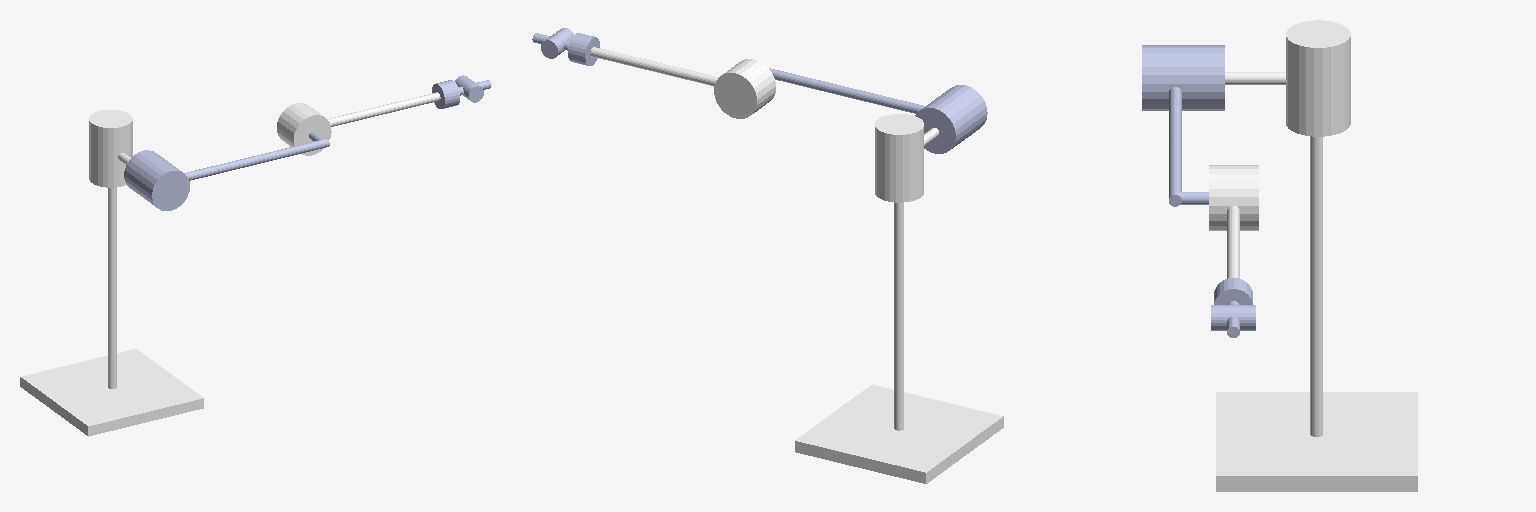
The robot description file, URDF, robot "puma560":
<?xml version="1.0" encoding="utf-8"?>
<!-- This URDF was automatically created by SolidWorks to URDF Exporter! Originally created by [author] ([email redacted]) 
     Commit Version: 1.5.1-0-g916b5db  Build Version: 1.5.7152.31018
     For more information, please see http://wiki.ros.org/sw_urdf_exporter -->
<robot
  name="puma560">
  <!-- Dummy link declaration -->
  <link name="world" />
  <joint name="joint_world" type="fixed">
    <parent link="world"/>
    <child link="base_link"/>
  </joint>  


  <!-- Robot declaration -->
  <link
    name="base_link">
    <inertial>
      <origin
        xyz="-9.5399E-11 0.021962 0.19252"
        rpy="0 0 0" />
      <mass
        value="15.787" />
      <inertia
        ixx="0.55024"
        ixy="-2.863E-11"
        ixz="-1.6743E-10"
        iyy="0.50424"
        iyz="0.022162"
        izz="0.16071" />
    </inertial>
    <visual>
      <origin
        xyz="0 0 0"
        rpy="0 0 0" />
      <geometry>
        <mesh
          filename="package://puma560_robot/meshes/visual/base_link_k.STL" />
      </geometry>
      <material
        name="white">
        <color
          rgba="1 1 1 1" />
      </material>
    </visual>
    <collision>
      <origin
        xyz="0 0 0"
        rpy="0 0 0" />
      <geometry>
        <mesh
          filename="package://puma560_robot/meshes/collision/base_link_c.STL" />
      </geometry>
    </collision>
  </link>
  <link
    name="waist_link">
    <inertial>
      <origin
        xyz="0.022505 1.5634E-07 -0.0027897"
        rpy="0 0 0" />
      <mass
        value="4.4341" />
      <inertia
        ixx="0.013316"
        ixy="1.005E-08"
        ixz="-0.00027854"
        iyy="0.027328"
        iyz="-7.7933E-09"
        izz="0.027164" />
    </inertial>
    <visual>
      <origin
        xyz="0 0 0"
        rpy="0 0 0" />
      <geometry>
        <mesh
          filename="package://puma560_robot/meshes/visual/waist_link_k.STL" />
      </geometry>
      <material
        name="white">
        <color
          rgba="1 1 1 1" />
      </material>
    </visual>
    <collision>
      <origin
        xyz="0 0 0"
        rpy="0 0 0" />
      <geometry>
        <mesh
          filename="package://puma560_robot/meshes/collision/waist_link_c.STL" />
      </geometry>
    </collision>
  </link>
  <joint
    name="joint_base_to_waist"
    type="revolute">
    <origin
      xyz="0 0 0.62357"
      rpy="0 0 -1.5708" />
    <parent
      link="base_link" />
    <child
      link="waist_link" />
    <axis
      xyz="0 0 1" />
    <limit
      lower="-2.7925"
      upper="2.7925"
      effort="0"
      velocity="0" />
  </joint>
  <link
    name="shoulder">
    <inertial>
      <origin
        xyz="0.082737 -4.6775E-05 -0.0031596"
        rpy="0 0 0" />
      <mass
        value="16.847" />
      <inertia
        ixx="0.09723"
        ixy="-7.8859E-06"
        ixz="-0.0043475"
        iyy="0.59657"
        iyz="-4.8383E-05"
        izz="0.65976" />
    </inertial>
    <visual>
      <origin
        xyz="0 0 0"
        rpy="0 0 0" />
      <geometry>
        <mesh
          filename="package://puma560_robot/meshes/visual/shoulder_link_k.STL" />
      </geometry>
      <material
        name="ecolor">
        <color
          rgba="0.79216 0.81961 0.93333 1" />
      </material>
    </visual>
    <collision>
      <origin
        xyz="0 0 0"
        rpy="0 0 0" />
      <geometry>
        <mesh
          filename="package://puma560_robot/meshes/collision/shoulder_link_c.STL" />
      </geometry>
    </collision>
  </link>
  <joint
    name="joint_waist_to_shoulder"
    type="revolute">
    <origin
      xyz="0.21844 0 0"
      rpy="1.5708 0 1.5708" />
    <parent
      link="waist_link" />
    <child
      link="shoulder" />
    <axis
      xyz="0 0 1" />
    <limit
      lower="-1.9199"
      upper="1.9199"
      effort="0"
      velocity="0" />
  </joint>
  <link
    name="elbow_link">
    <inertial>
      <origin
        xyz="0.088774 1.1788E-06 1.5623E-06"
        rpy="0 0 0" />
      <mass
        value="4.6025" />
      <inertia
        ixx="0.0091916"
        ixy="-4.837E-07"
        ixz="2.2739E-06"
        iyy="0.082615"
        iyz="-3.6529E-07"
        izz="0.087355" />
    </inertial>
    <visual>
      <origin
        xyz="0 0 0"
        rpy="0 0 0" />
      <geometry>
        <mesh
          filename="package://puma560_robot/meshes/visual/elbow_link_k.STL" />
      </geometry>
      <material
        name="white">
        <color
          rgba="1 1 1 1" />
      </material>
    </visual>
    <collision>
      <origin
        xyz="0 0 0"
        rpy="0 0 0" />
      <geometry>
        <mesh
          filename="package://puma560_robot/meshes/collision/elbow_link_c.STL" />
      </geometry>
    </collision>
  </link>
  <joint
    name="joint_shoulder_to_elbow"
    type="revolute">
    <origin
      xyz="0.4318 0 -0.0889"
      rpy="0 0 0" />
    <parent
      link="shoulder" />
    <child
      link="elbow_link" />
    <axis
      xyz="0 0 -1" />
    <limit
      lower="-2.3562"
      upper="2.3562"
      effort="0"
      velocity="0" />
  </joint>
  <link
    name="wrist_bend_link">
    <inertial>
      <origin
        xyz="0 0 0.02757"
        rpy="0 0 0" />
      <mass
        value="0.47079" />
      <inertia
        ixx="0.00073772"
        ixy="4.6144E-21"
        ixz="3.7347E-20"
        iyy="0.00077289"
        iyz="1.5125E-19"
        izz="0.00046683" />
    </inertial>
    <visual>
      <origin
        xyz="0 0 0"
        rpy="0 0 0" />
      <geometry>
        <mesh
          filename="package://puma560_robot/meshes/visual/wrist_bend_link_k.STL" />
      </geometry>
      <material
        name="scolor">
        <color
          rgba="0.79216 0.81961 0.93333 1" />
      </material>
    </visual>
    <collision>
      <origin
        xyz="0 0 0"
        rpy="0 0 0" />
      <geometry>
        <mesh
          filename="package://puma560_robot/meshes/collision/wrist_bend_link_c.STL" />
      </geometry>
    </collision>
  </link>
  <joint
    name="joint_elbow_to_wrist_bend"
    type="revolute">
    <origin
      xyz="0.37211 0 0"
      rpy="0 1.5708 0" />
    <parent
      link="elbow_link" />
    <child
      link="wrist_bend_link" />
    <axis
      xyz="0 0 1" />
    <limit
      lower="-1.7453"
      upper="1.7453"
      effort="0"
      velocity="0" />
  </joint>
  <link
    name="wrist_roll_link">
    <inertial>
      <origin
        xyz="3.9262E-10 -0.010974 2.7756E-17"
        rpy="0 0 0" />
      <mass
        value="0.077406" />
      <inertia
        ixx="4.3032E-05"
        ixy="-1.1303E-12"
        ixz="-1.2065E-11"
        iyy="1.6966E-05"
        iyz="1.2248E-20"
        izz="4.5414E-05" />
    </inertial>
    <visual>
      <origin
        xyz="0 0 0"
        rpy="0 0 0" />
      <geometry>
        <mesh
          filename="package://puma560_robot/meshes/visual/wrist_roll_link_k.STL" />
      </geometry>
      <material
        name="dcolor">
        <color
          rgba="0.79216 0.81961 0.93333 1" />
      </material>
    </visual>
    <collision>
      <origin
        xyz="0 0 0"
        rpy="0 0 0" />
      <geometry>
        <mesh
          filename="package://puma560_robot/meshes/collision/wrist_roll_link_c.STL" />
      </geometry>
    </collision>
  </link>
  <joint
    name="joint_wrist_bend_to_roll"
    type="revolute">
    <origin
      xyz="0 0 0.059979"
      rpy="-1.5708 0 -1.5708" />
    <parent
      link="wrist_bend_link" />
    <child
      link="wrist_roll_link" />
    <axis
      xyz="0 0 1" />
    <limit
      lower="-2.094395102"
      upper="2.094395102"
      effort="0"
      velocity="0" />
  </joint>
</robot>

--- What the picture shows (computed from the rendered views, not written in the file) ---
Views: 3 orthographic renders of the robot side by side, from view 1: azimuth 30°, elevation 25°; view 2: azimuth 150°, elevation 25°; view 3: azimuth 270°, elevation 25°.
Robot: puma560 — 7 links, 6 joints (5 revolute, 1 fixed); root link world; default pose: all joints at 0.
Links seen in each view (by area): view 1: base_link, shoulder, waist_link, elbow_link, wrist_bend_link, wrist_roll_link; view 2: base_link, shoulder, waist_link, elbow_link, wrist_bend_link, wrist_roll_link; view 3: base_link, waist_link, shoulder, elbow_link, wrist_roll_link, wrist_bend_link.
Link boxes in pixels (bbox=[...]): base_link: bbox=[20, 187, 203, 436]; shoulder: bbox=[124, 131, 329, 210]; waist_link: bbox=[89, 110, 132, 187]; elbow_link: bbox=[277, 92, 440, 155]; wrist_bend_link: bbox=[432, 80, 463, 108]; wrist_roll_link: bbox=[455, 75, 491, 102]; base_link: bbox=[795, 202, 1003, 483]; shoulder: bbox=[769, 68, 987, 153]; waist_link: bbox=[875, 114, 938, 202]; elbow_link: bbox=[590, 47, 775, 118]; wrist_bend_link: bbox=[564, 33, 599, 65]; wrist_roll_link: bbox=[532, 28, 573, 58]; base_link: bbox=[1216, 136, 1417, 491]; waist_link: bbox=[1225, 20, 1350, 136]; shoulder: bbox=[1142, 45, 1224, 206]; elbow_link: bbox=[1209, 165, 1258, 278]; wrist_roll_link: bbox=[1211, 305, 1255, 337]; wrist_bend_link: bbox=[1214, 278, 1252, 304].
Size in the robot's own frame: 1.07 by 0.4212 by 0.6982 metres.
Meshes: 6 distinct files referenced, 6 mesh visuals loaded (6 binary STL).